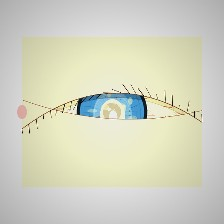corneal_ulcer: (84, 94, 141, 139)
